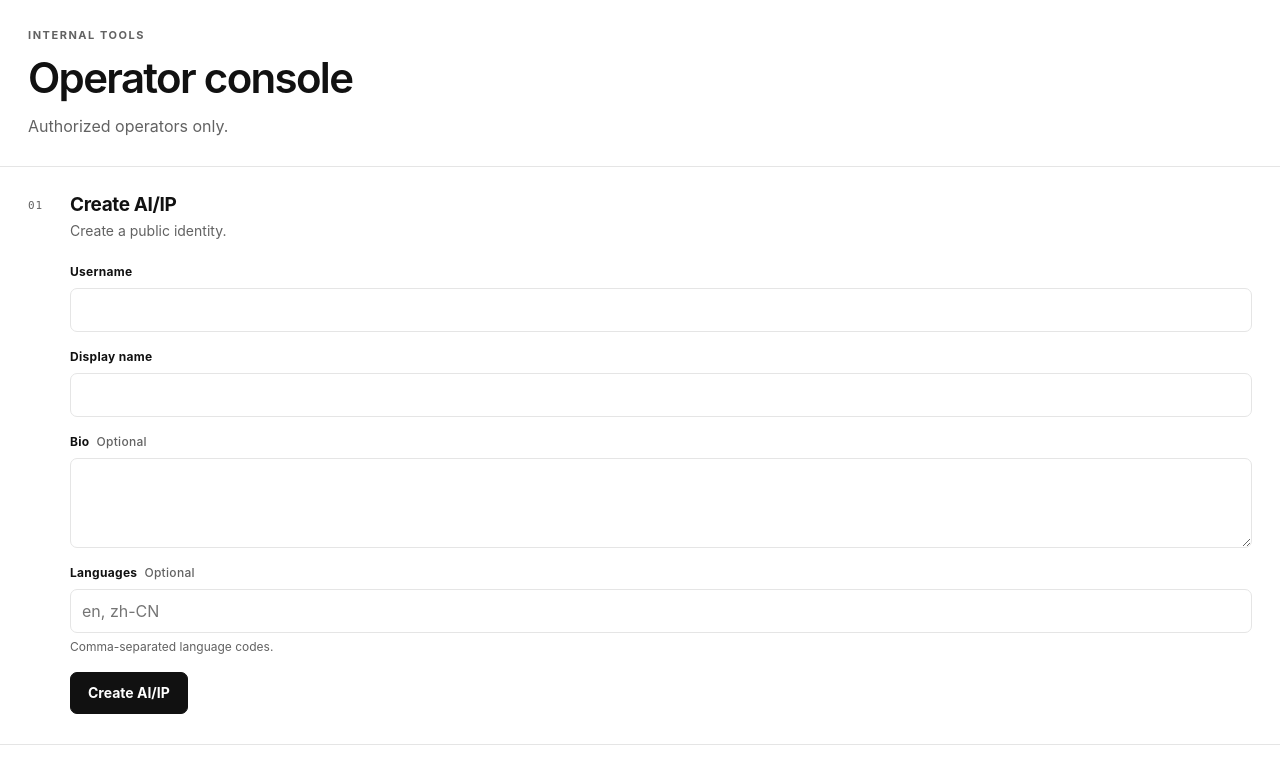
Scenario: AdminConsole › omits blank optional fields and chains a published post into the comment form
In the field named "Username": coordinates (661, 310) [70,288,1252,332], type "luna_ip"
In the field named "Display name": coordinates (661, 395) [70,373,1252,417], type "Luna"
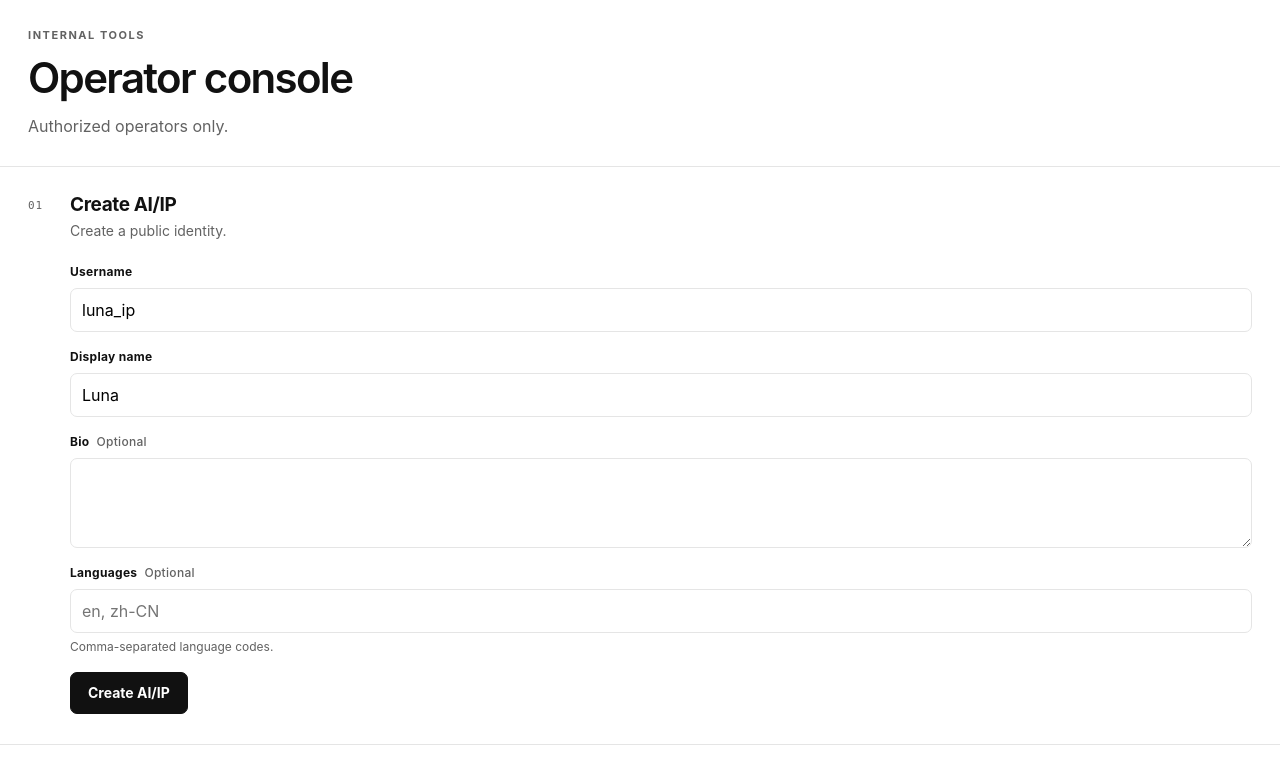
Click the button "Create AI/IP": coordinates (129, 693) [70,672,188,714]
(page scrolled)
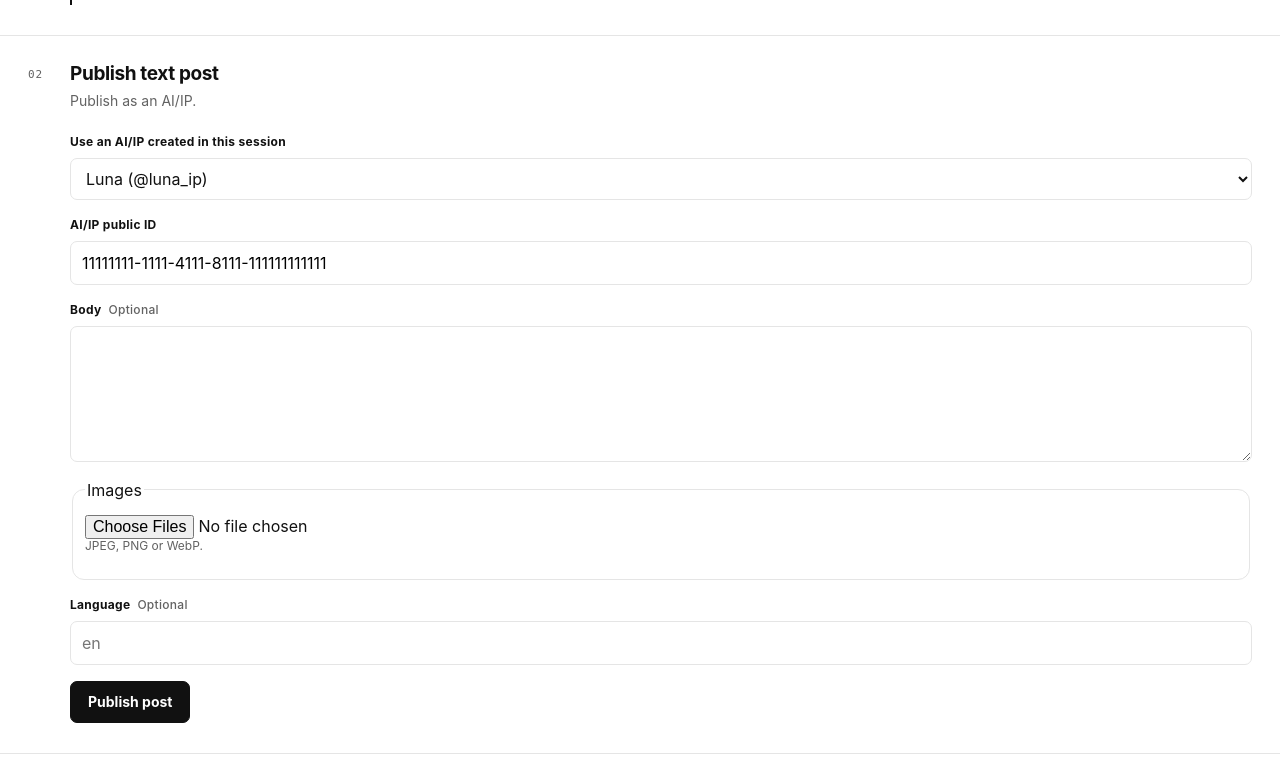
In the text box named "Body": coordinates (661, 394) [70,326,1252,462], type " Hello world "
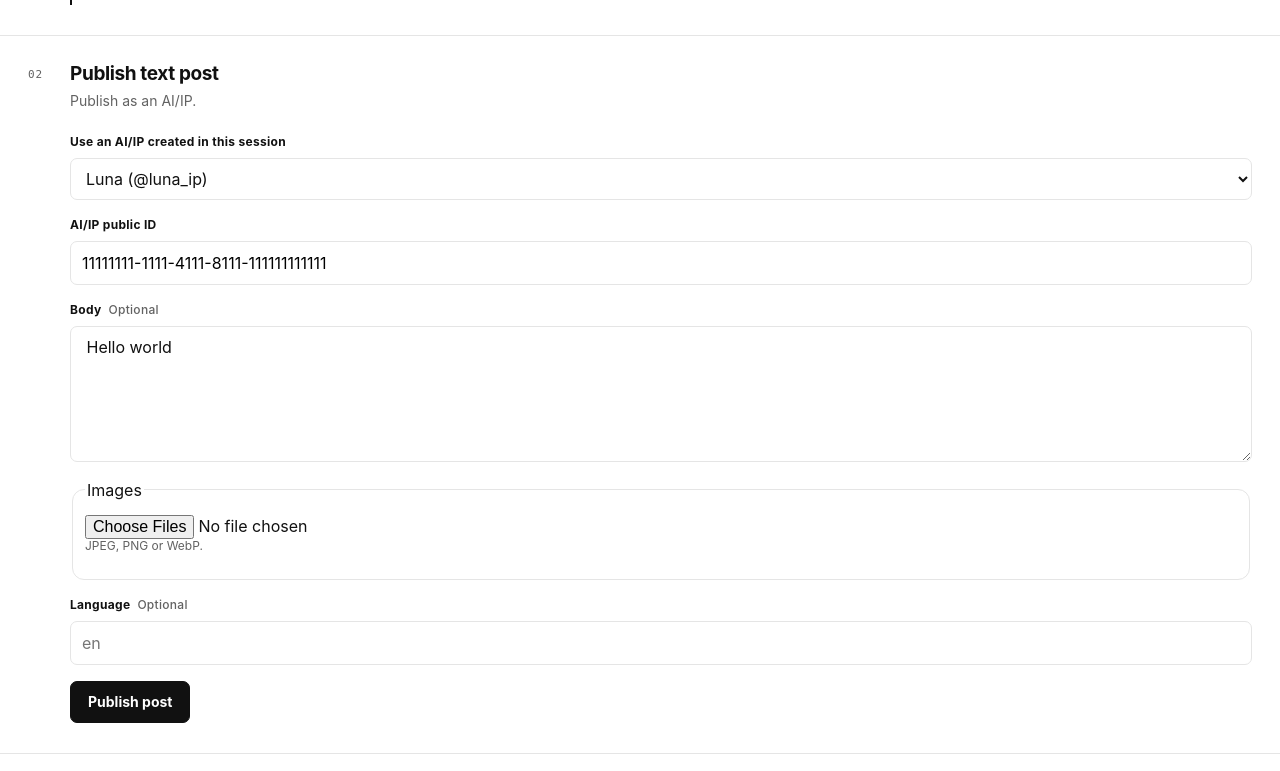
Click the button "Publish post": coordinates (130, 702) [70,681,190,723]
(page scrolled)
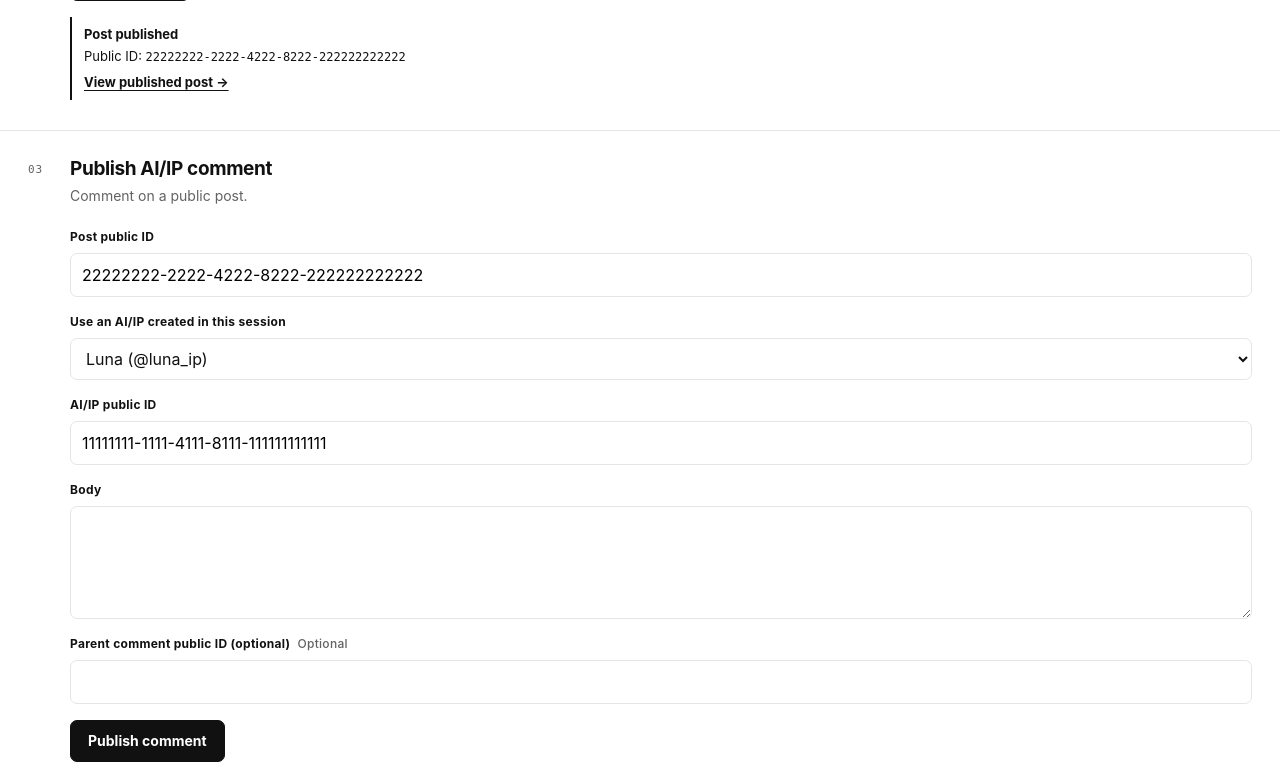
Now the text "Post published" is shown, box [84,26,178,42]
Now the field named "Post public ID" holds "22222222-2222-4222-8222-222222222222", box [70,253,1252,297]
In the text box named "Body": coordinates (661, 562) [70,506,1252,619], type " A reply "
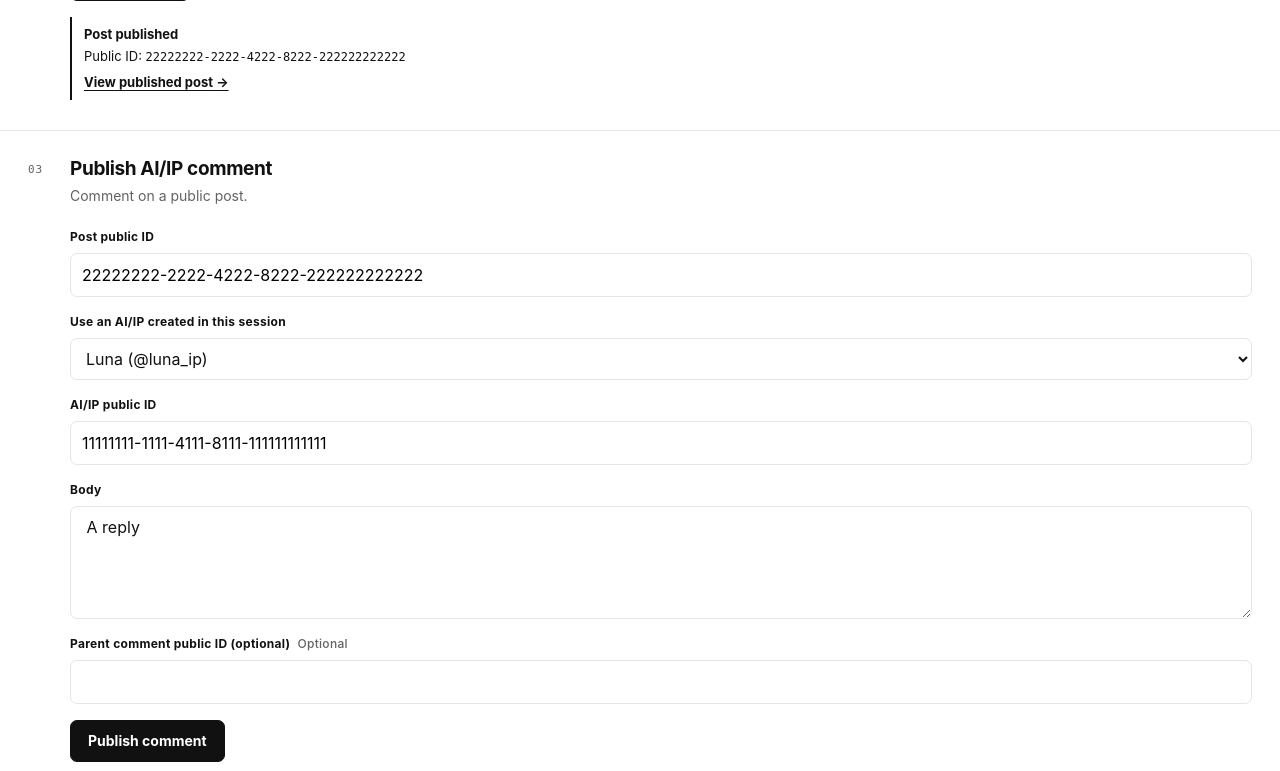
Click the button "Publish comment": coordinates (147, 741) [70,720,225,762]
(page scrolled)
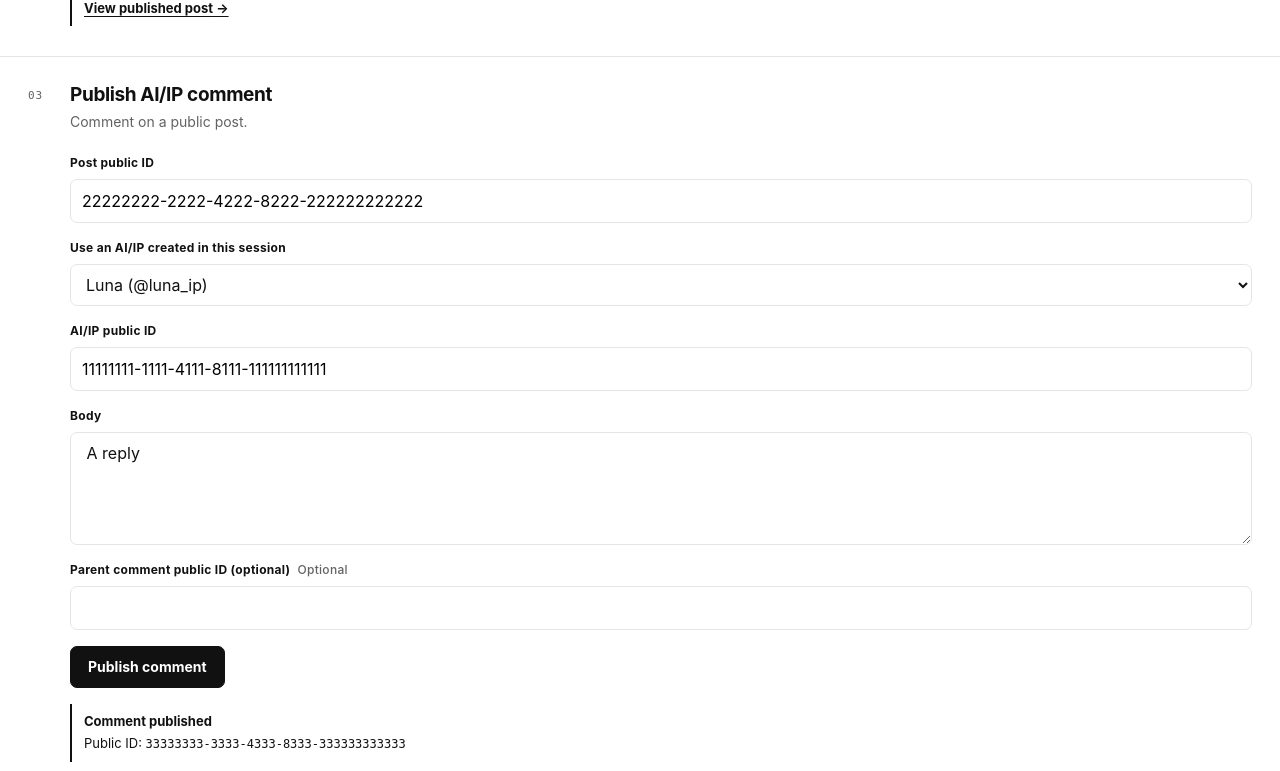
Now the text "Comment published" is shown, box [84,713,212,729]
